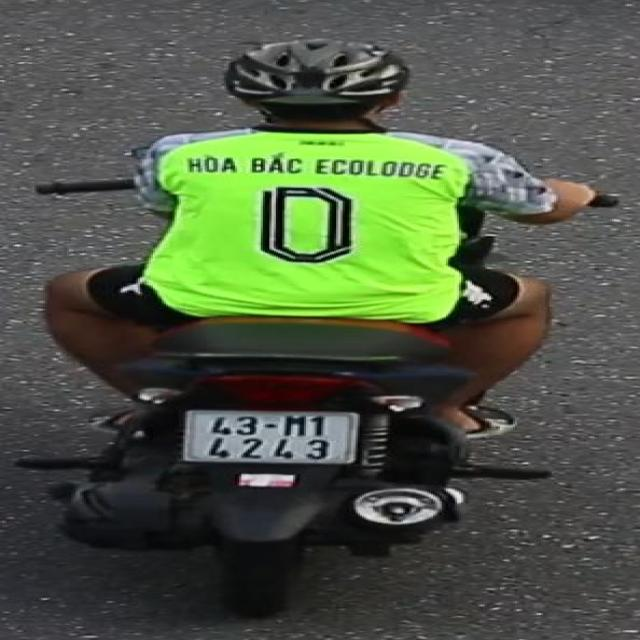LP: (174, 403, 368, 467)
helmet: (224, 32, 420, 139)
